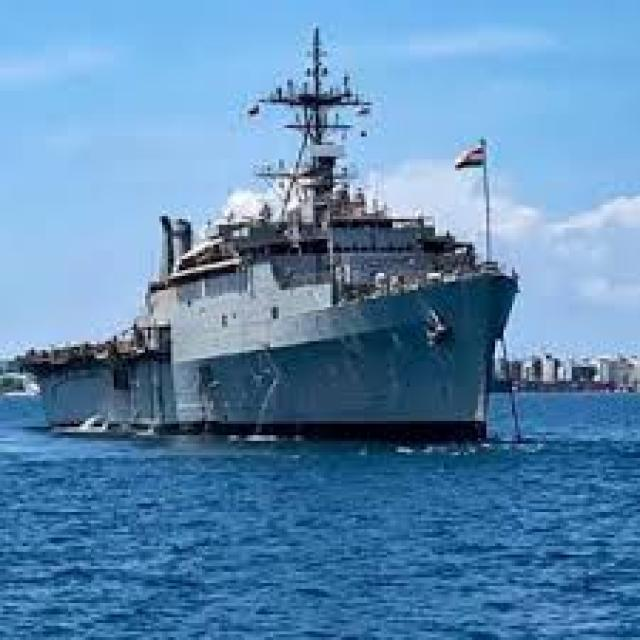navalvessels: (9, 38, 522, 447)
